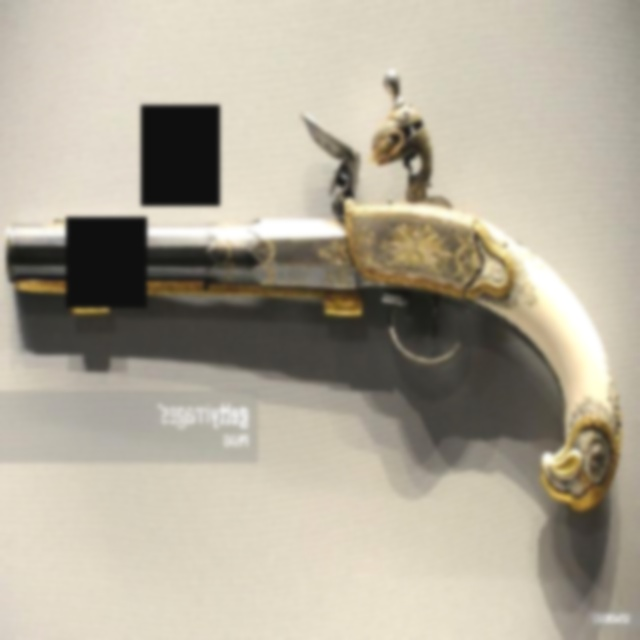gun: (2, 55, 622, 524)
